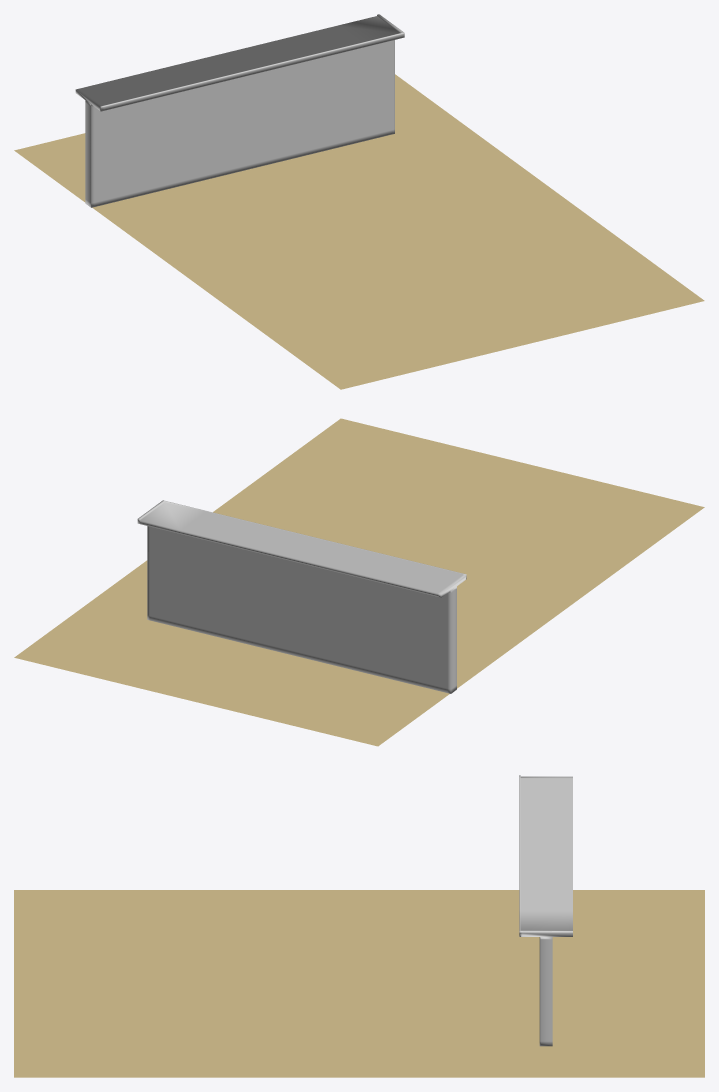
File: BarCounter_Floor.dae
3 views of the same model, one above another, from view 1: azimuth 30°, elevation 25°; view 2: azimuth 150°, elevation 25°; view 3: azimuth 270°, elevation 25° (orthographic). The views are drawn at different scales.
Visible parts, largest first — view 1: Floor, Plane; view 2: Floor, Plane; view 3: Floor, Plane.
Boxes of the visible parts, x1,y1,x2,y2 form: Floor: (14,74,704,389); Plane: (75,14,404,207); Floor: (14,418,704,746); Plane: (137,500,466,693); Floor: (14,890,704,1077); Plane: (519,775,572,1046).
Size of the model in its own units: 4.03 by 6.26 by 1.14.
